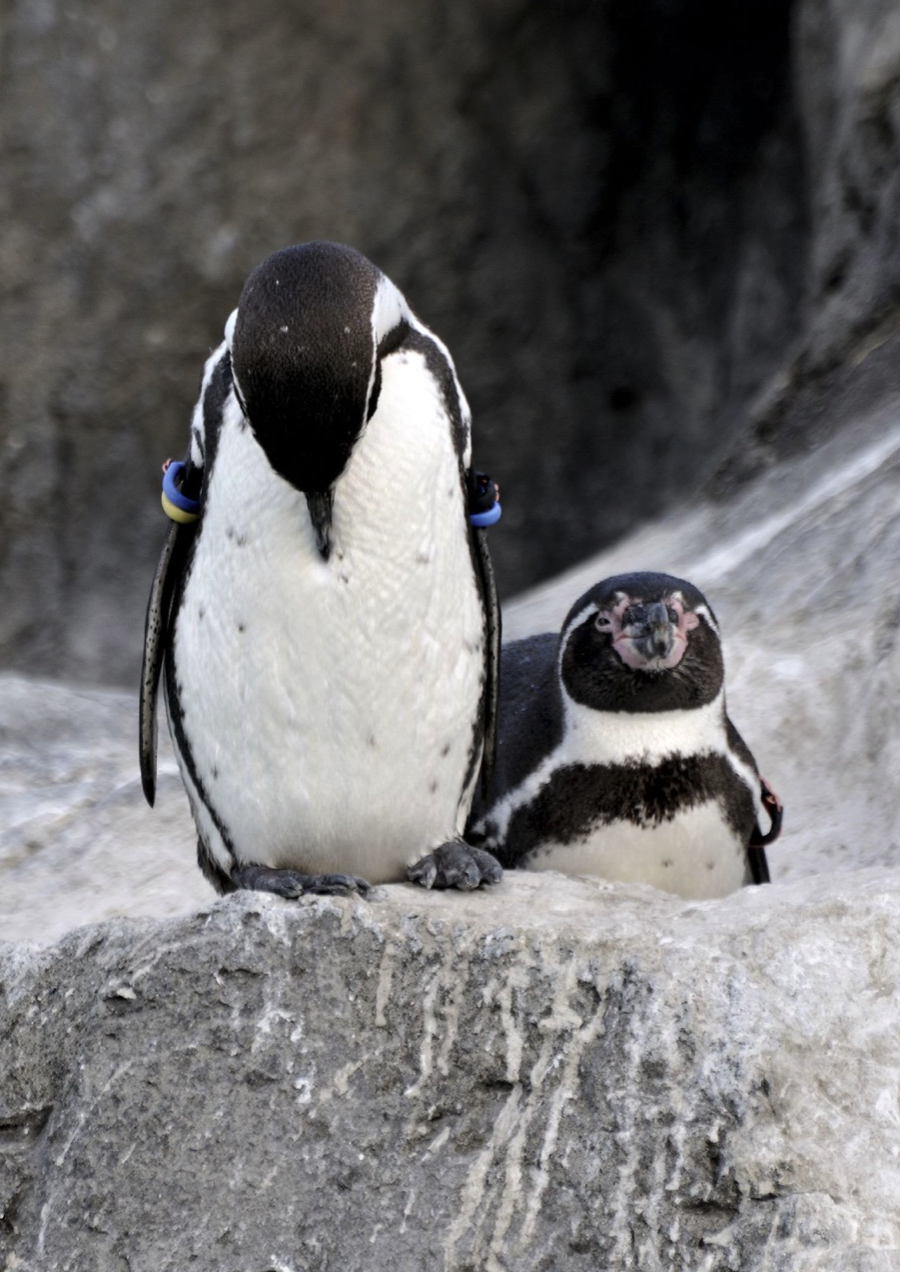penguin: (102, 233, 513, 909), (501, 574, 788, 912)
